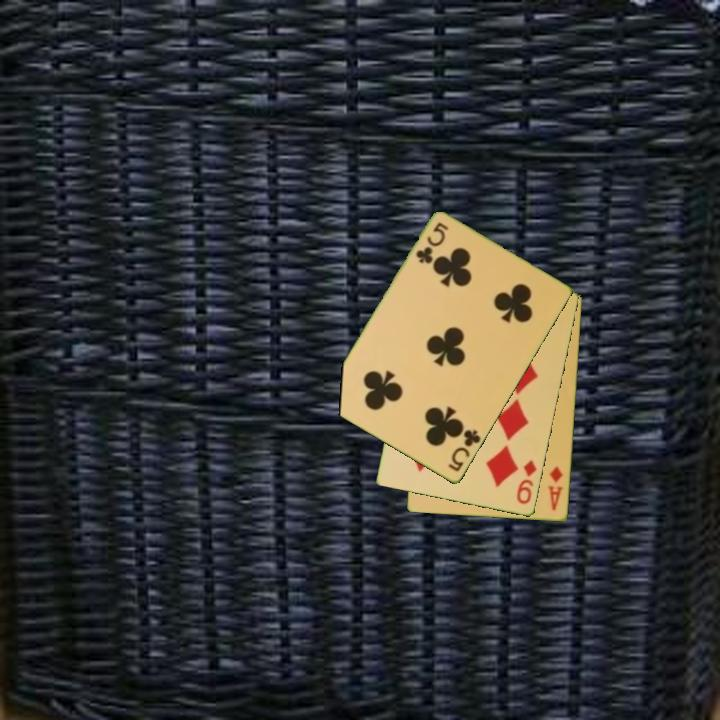5c: (444, 426, 484, 475), (412, 219, 452, 267)
9d: (513, 457, 540, 508)
Ad: (545, 463, 566, 514)
